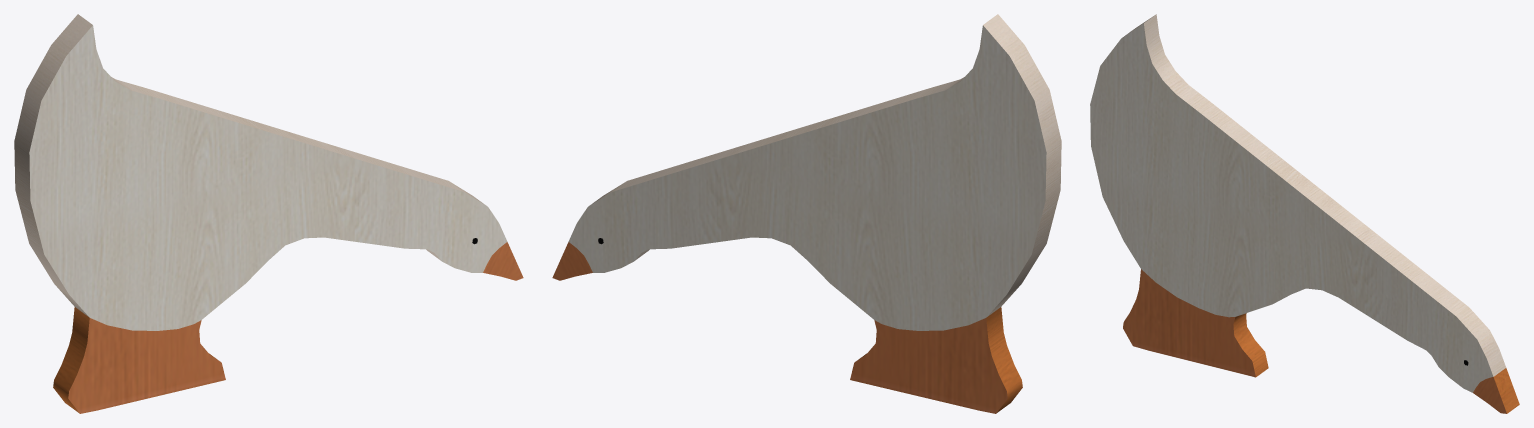
Rendered from Doll_OB_Goose_1.fbx.
3 renders of one model, left to right at view 1: azimuth 30°, elevation 25°; view 2: azimuth 150°, elevation 25°; view 3: azimuth 330°, elevation 25°, orthographic. The views are drawn at different scales.
Parts seen in each view (by area): view 1: Doll_OB_Goose_1; view 2: Doll_OB_Goose_1; view 3: Doll_OB_Goose_1.
Boxes of the visible parts, box(x1,y1,x2,y2) form: Doll_OB_Goose_1: box(14, 14, 523, 413); Doll_OB_Goose_1: box(552, 14, 1061, 413); Doll_OB_Goose_1: box(1090, 14, 1519, 413).
Size of the model in its own units: 25.58 by 19.16 by 1.36.
